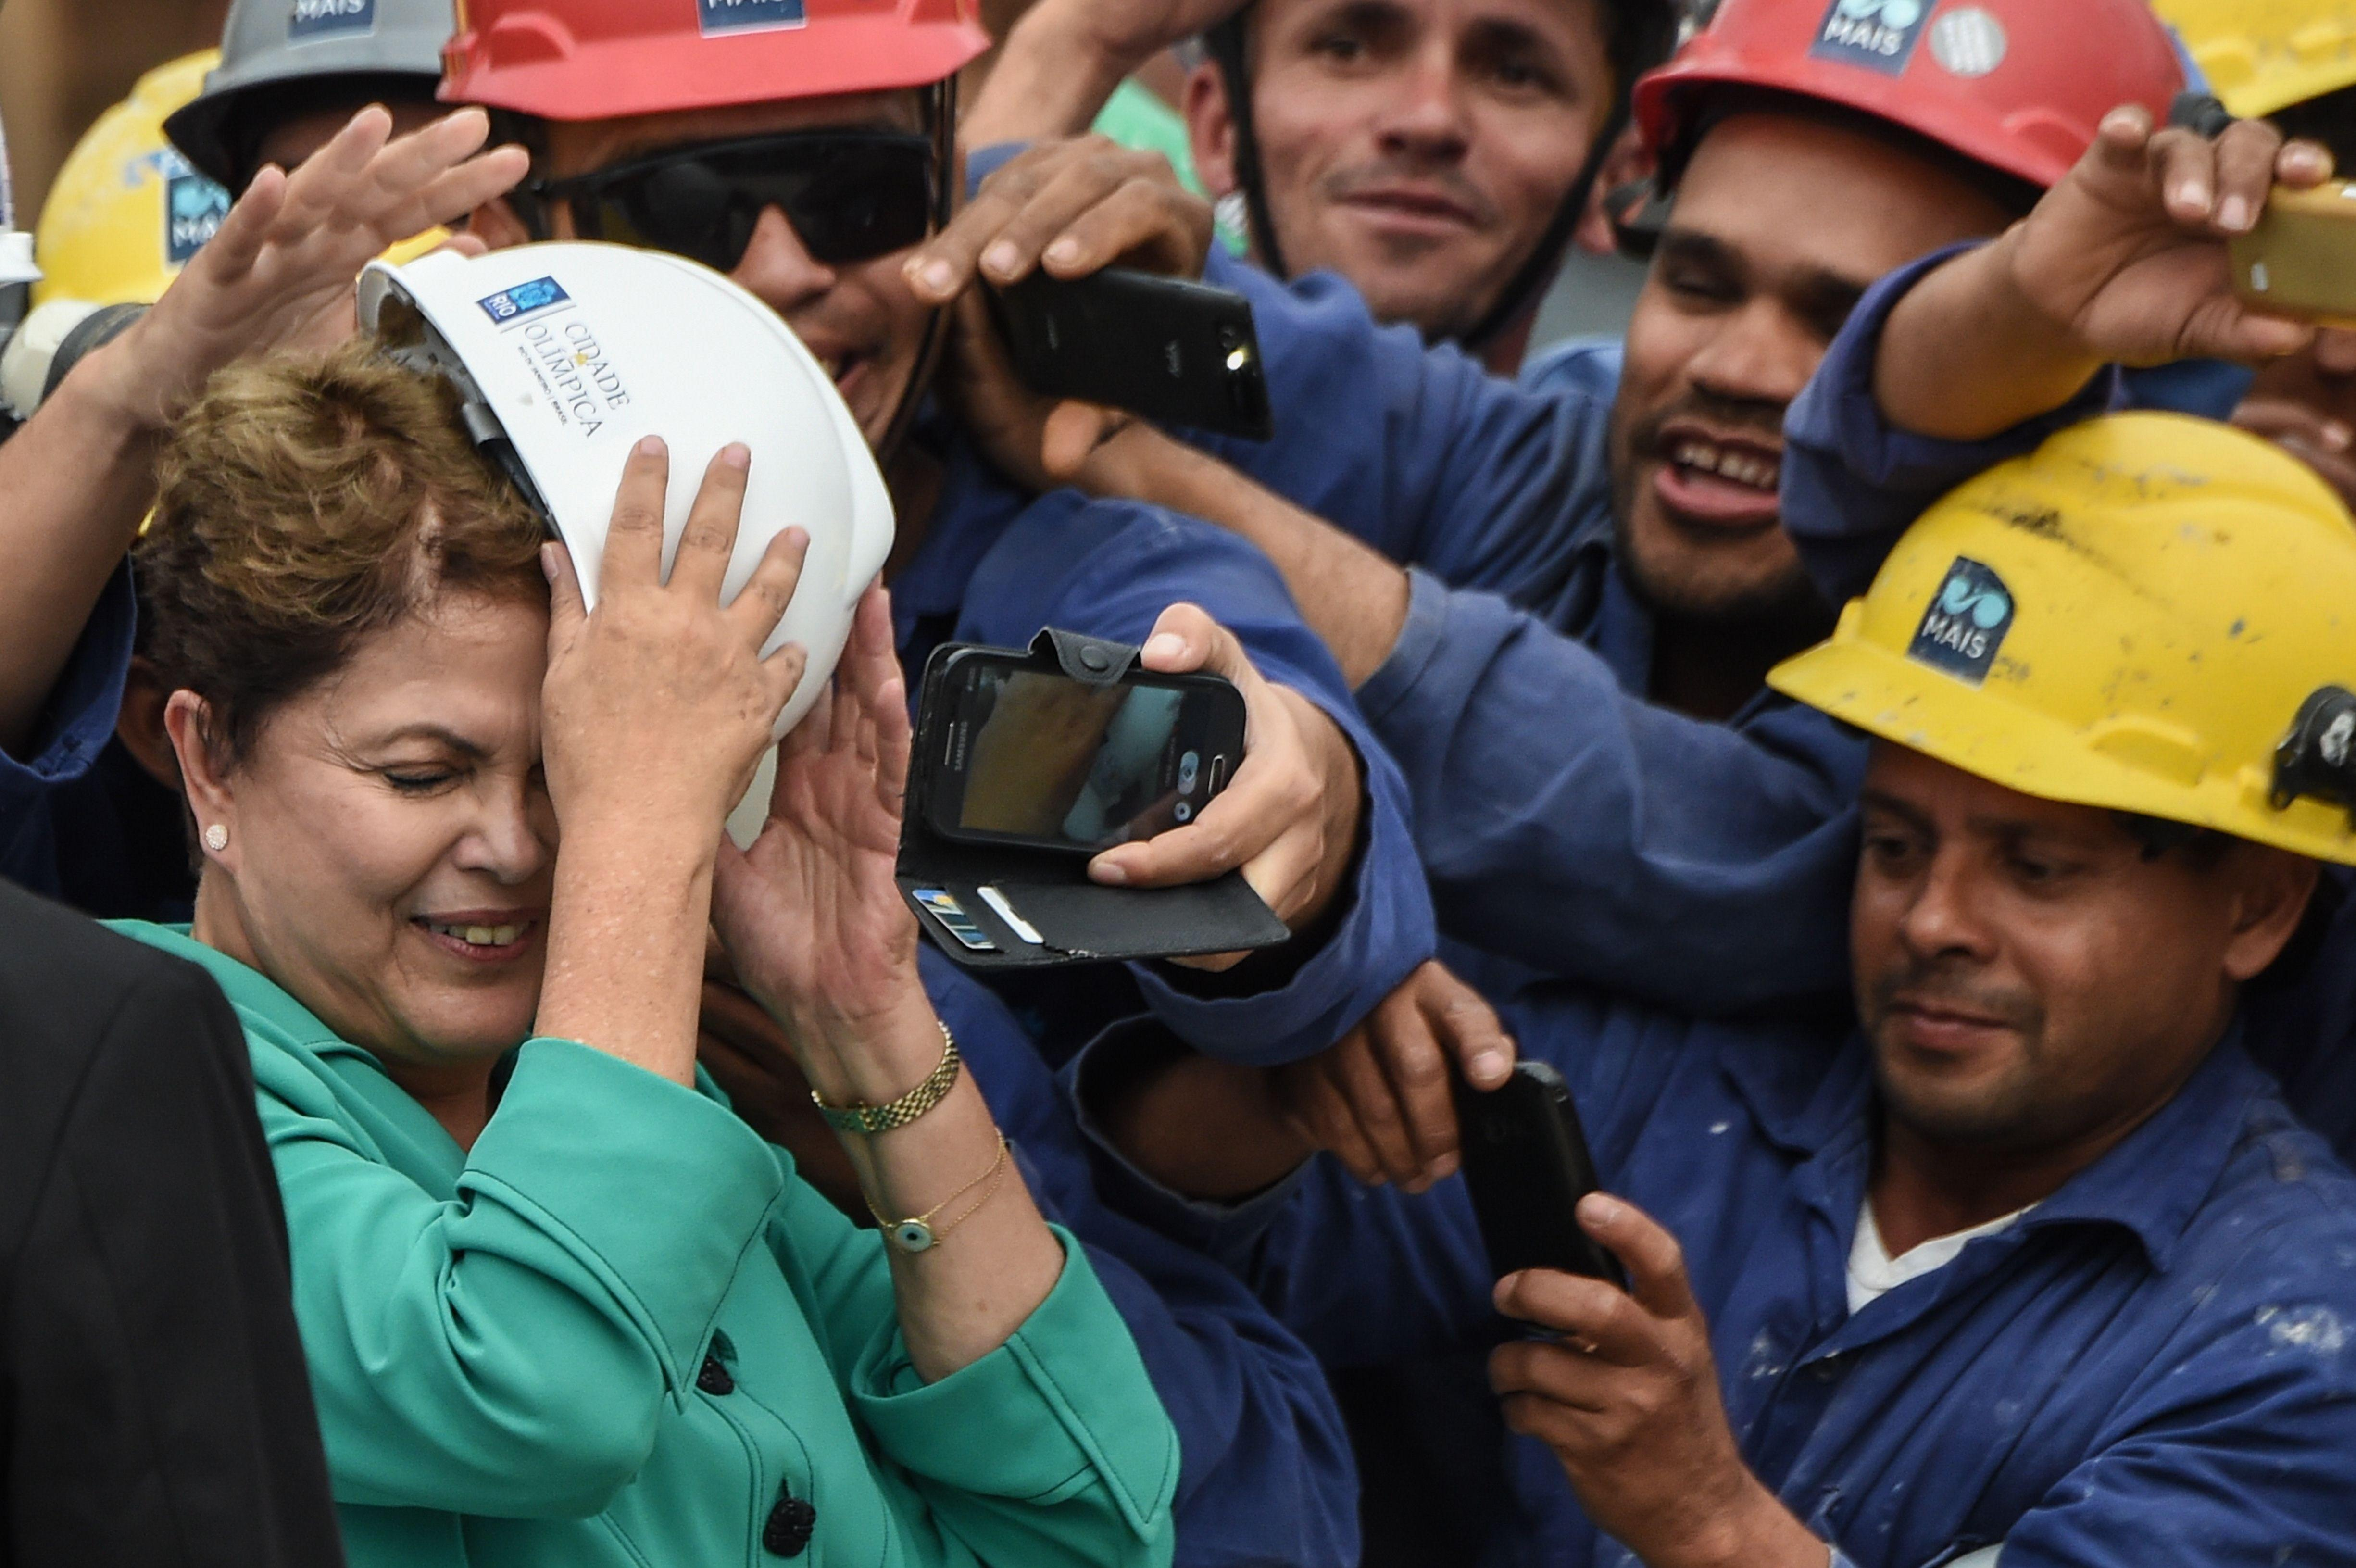helmet: (341, 222, 908, 861), (1763, 408, 2356, 887), (1616, 0, 2239, 203), (436, 0, 1000, 129), (152, 0, 477, 184)
